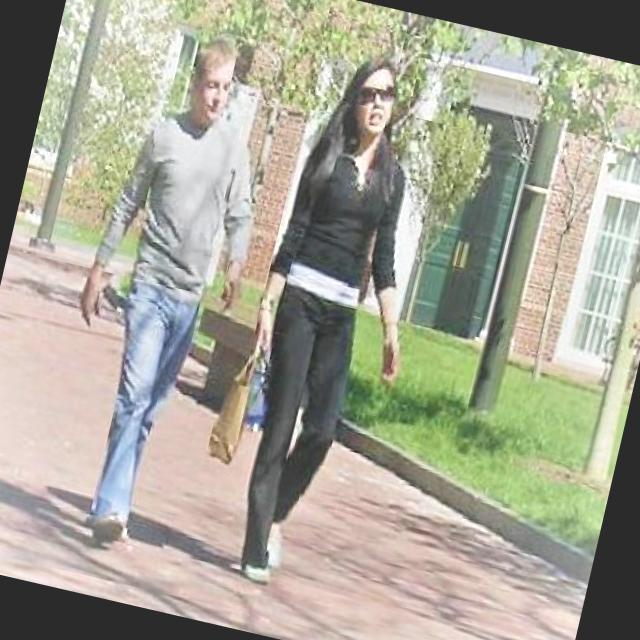Person: (192, 33, 474, 608), (23, 4, 301, 562)
